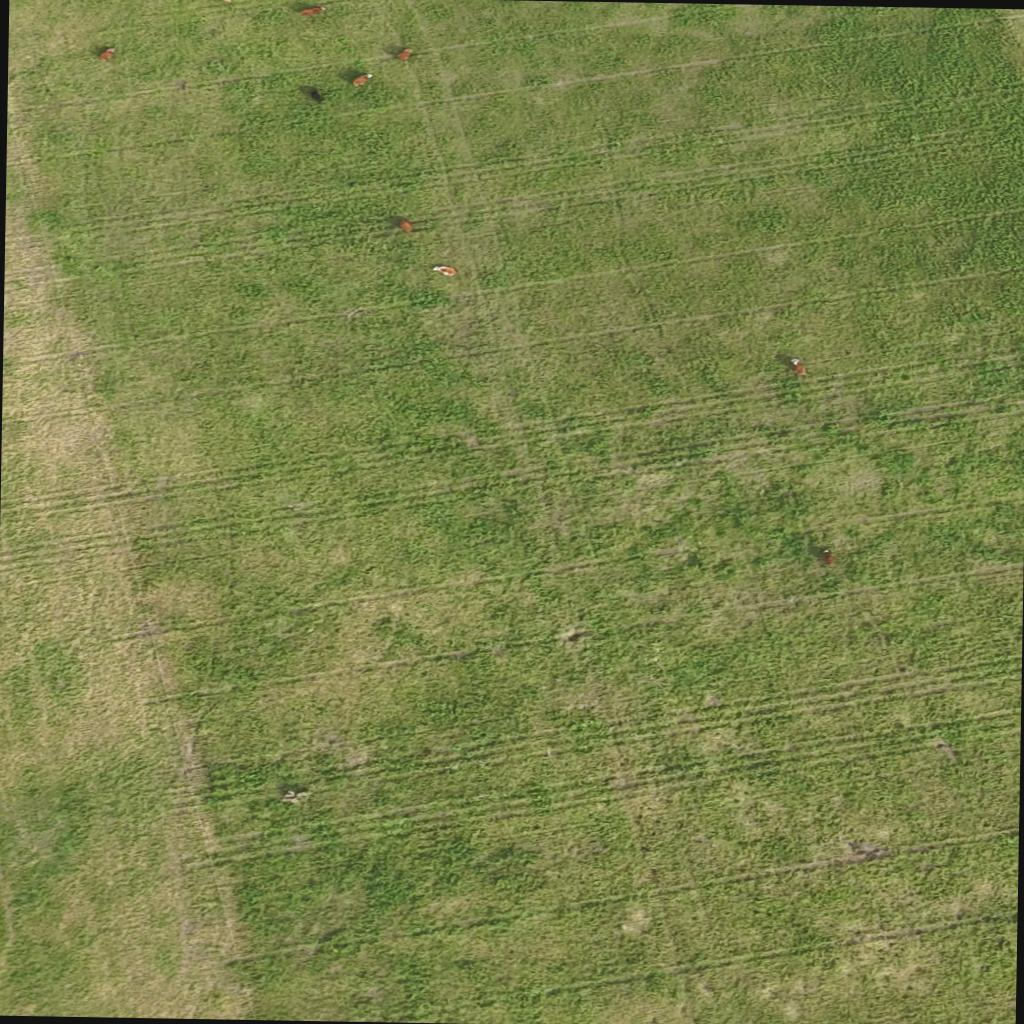cow: (814, 546, 838, 567), (786, 356, 810, 376), (393, 217, 416, 233), (430, 264, 456, 276), (298, 5, 326, 16), (350, 73, 372, 86), (396, 47, 413, 62), (98, 48, 116, 62), (209, 0, 232, 3)
